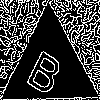B: (24, 41, 69, 98)
